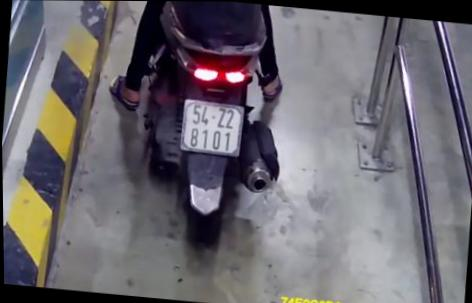LP: (179, 96, 246, 158)
